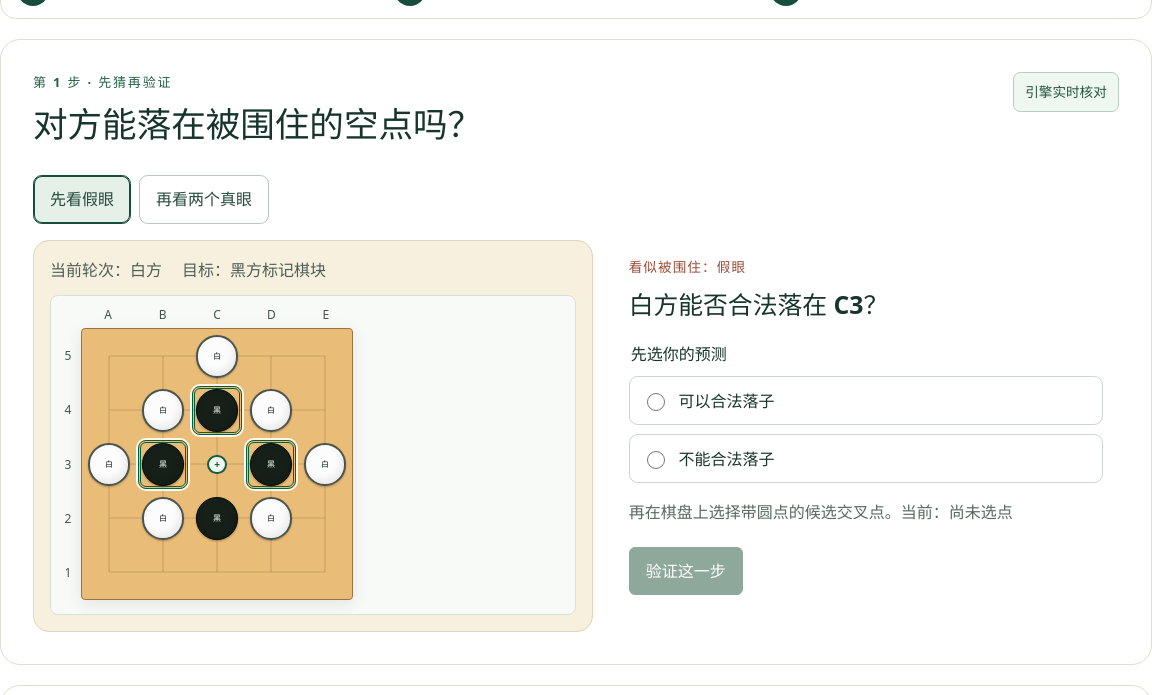
Test: T11 life lesson UI boundaries › starts with a guess, a selectable candidate, turn and target labels
(page scrolled)
Expected: the button "验证这一步" is disabled, [629,547,743,595]
Click the radio button labelled "可以合法落子".
click(656, 402)  # box [647,394,665,411]
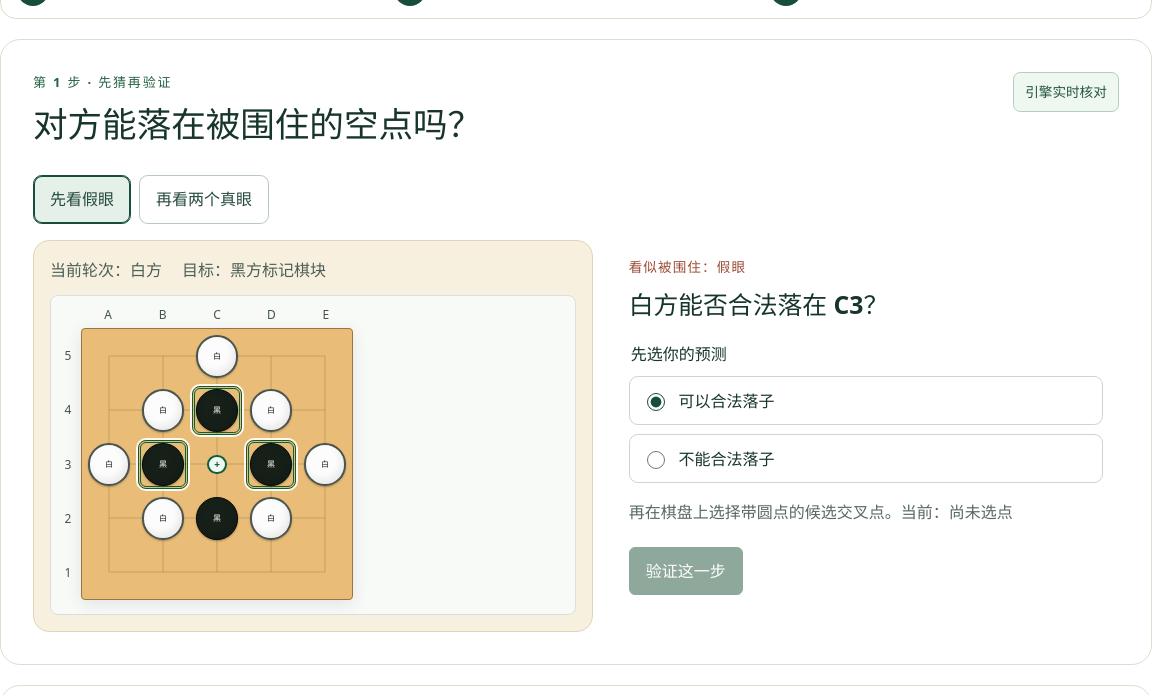
Click the cell named "C3，空点，可选择，候选点 C3".
click(217, 464)  # box [190,438,244,492]
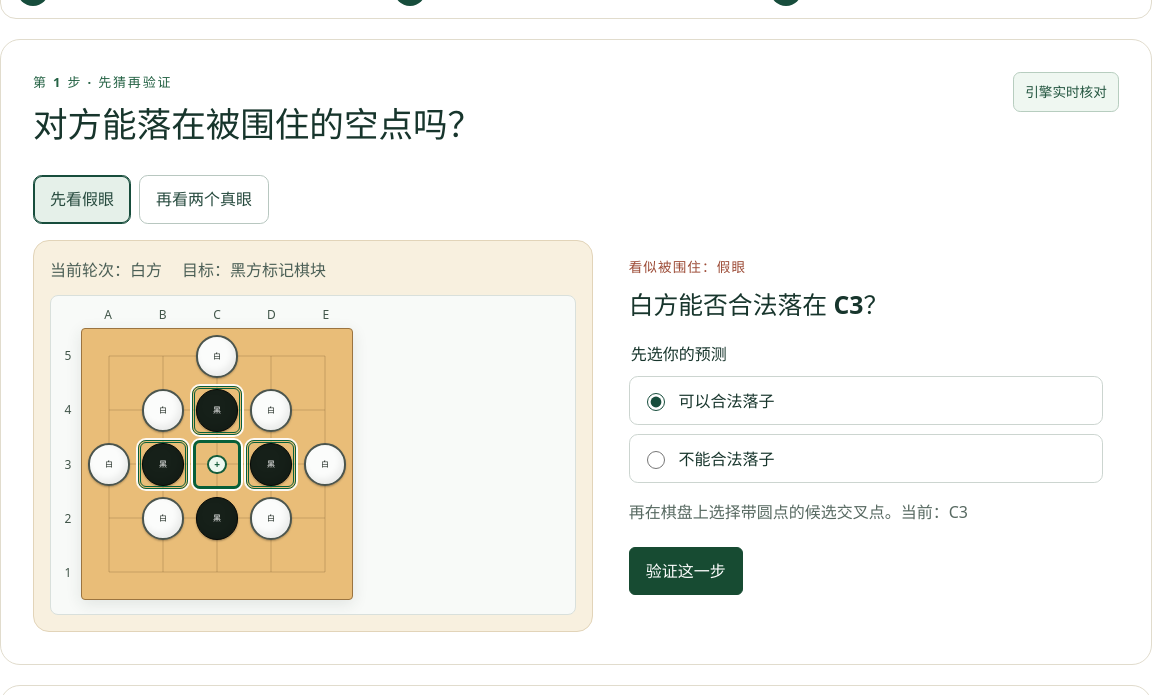
Result: the button "验证这一步" is enabled
Click the button "验证这一步".
click(686, 571)  # box [629,547,743,595]
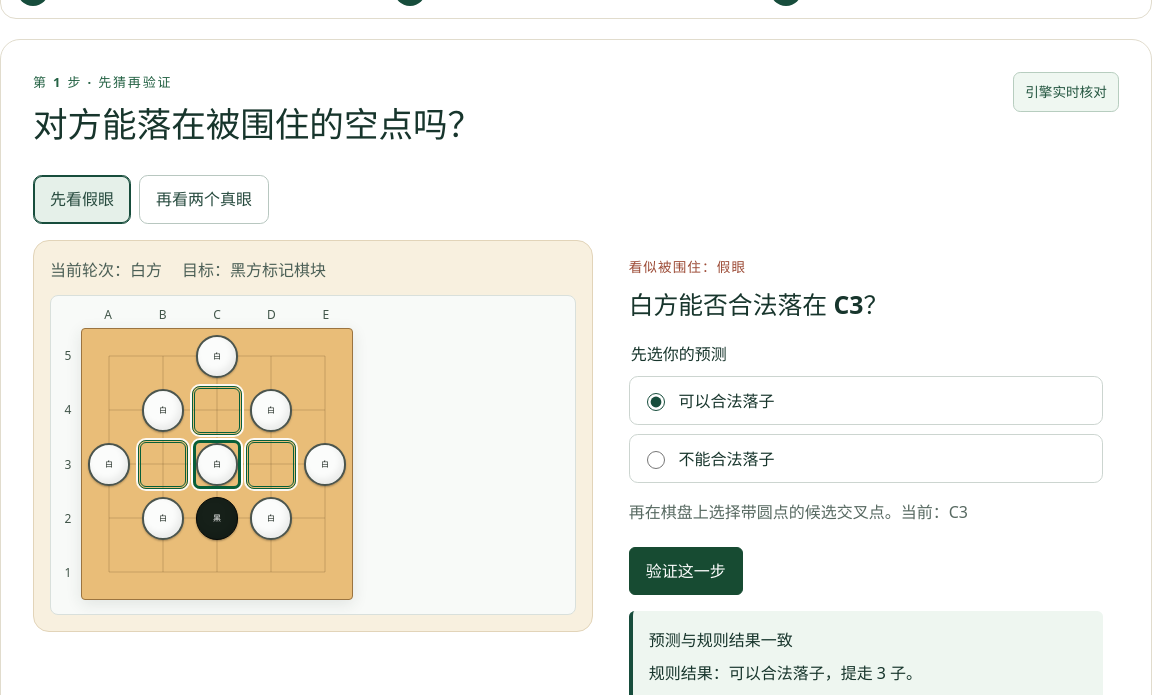
Result: the text "提走 3 子" is shown at [649,662,922,684]
